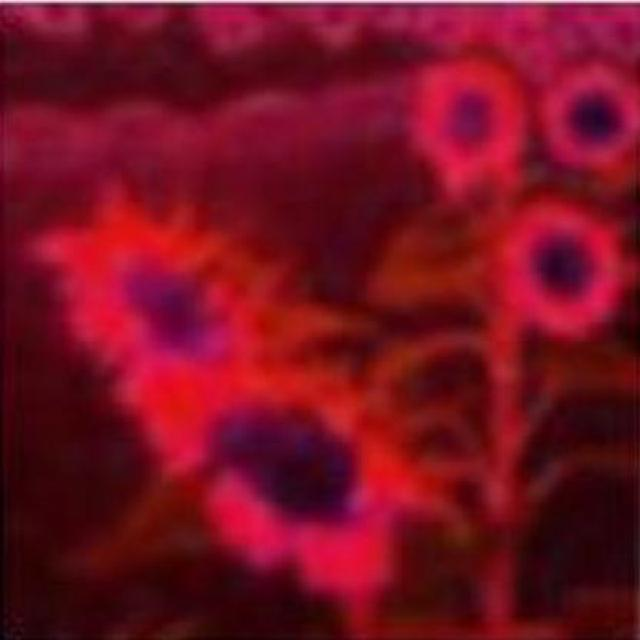sunflower: (28, 188, 321, 407), (142, 369, 410, 579), (491, 185, 638, 349), (535, 58, 640, 182)
